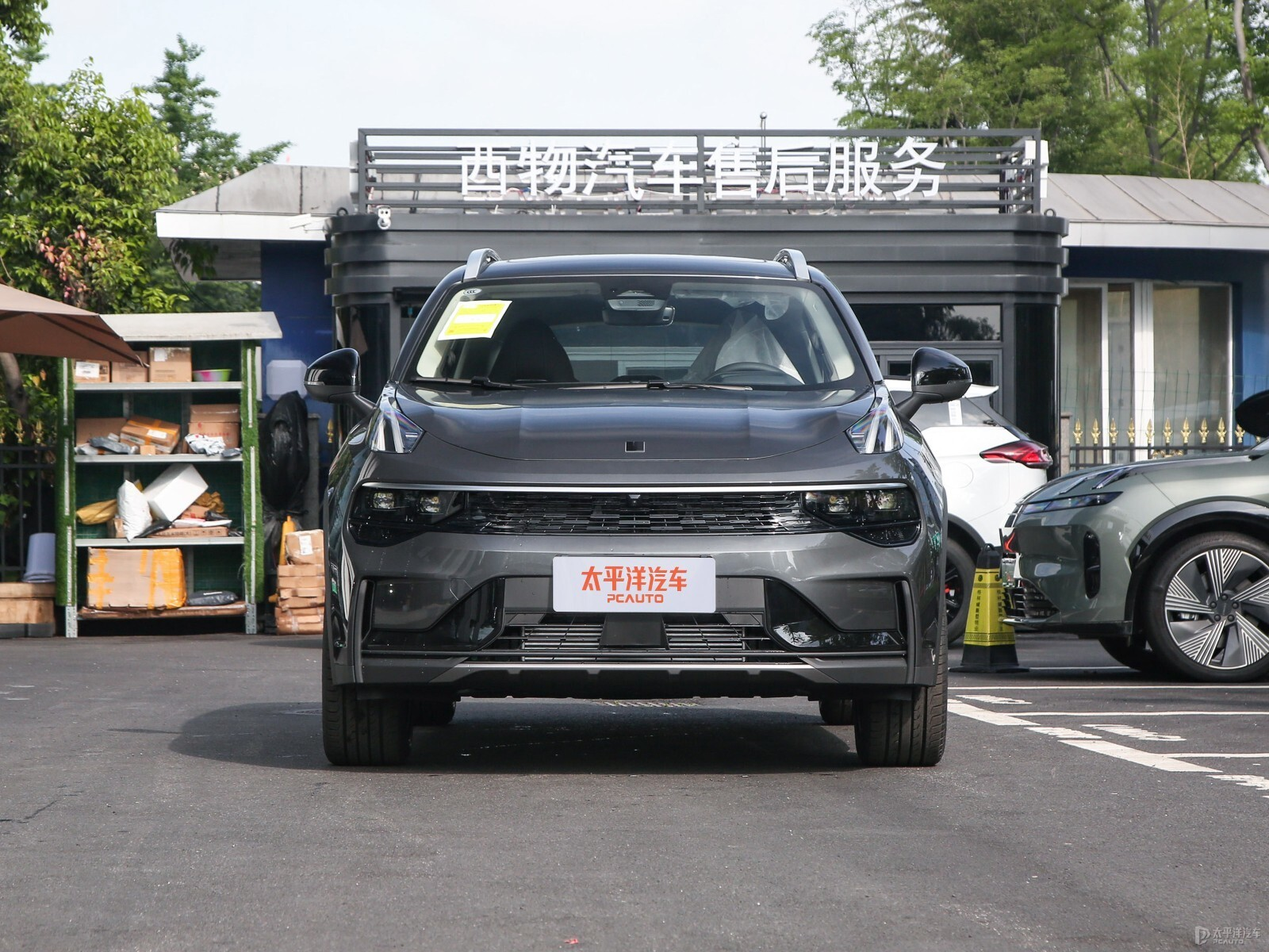LINK&CO: (627, 441, 643, 451)
